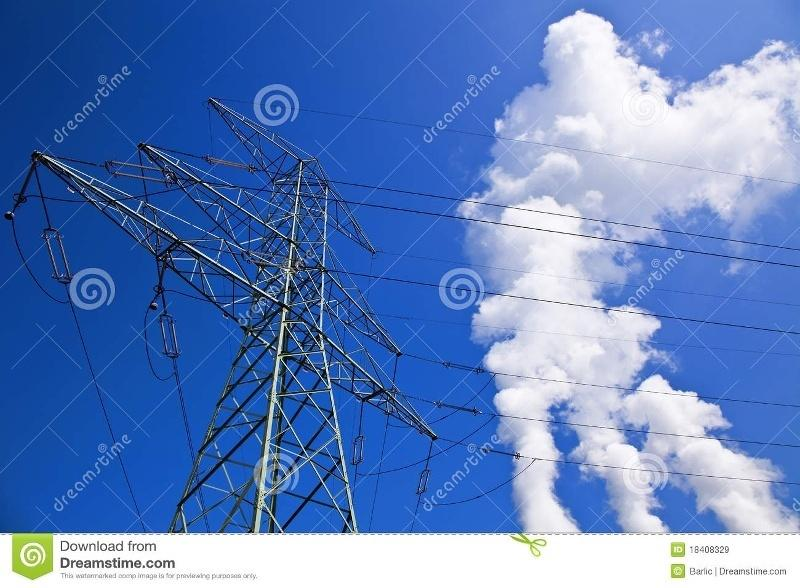power_tower: (7, 72, 478, 521)
